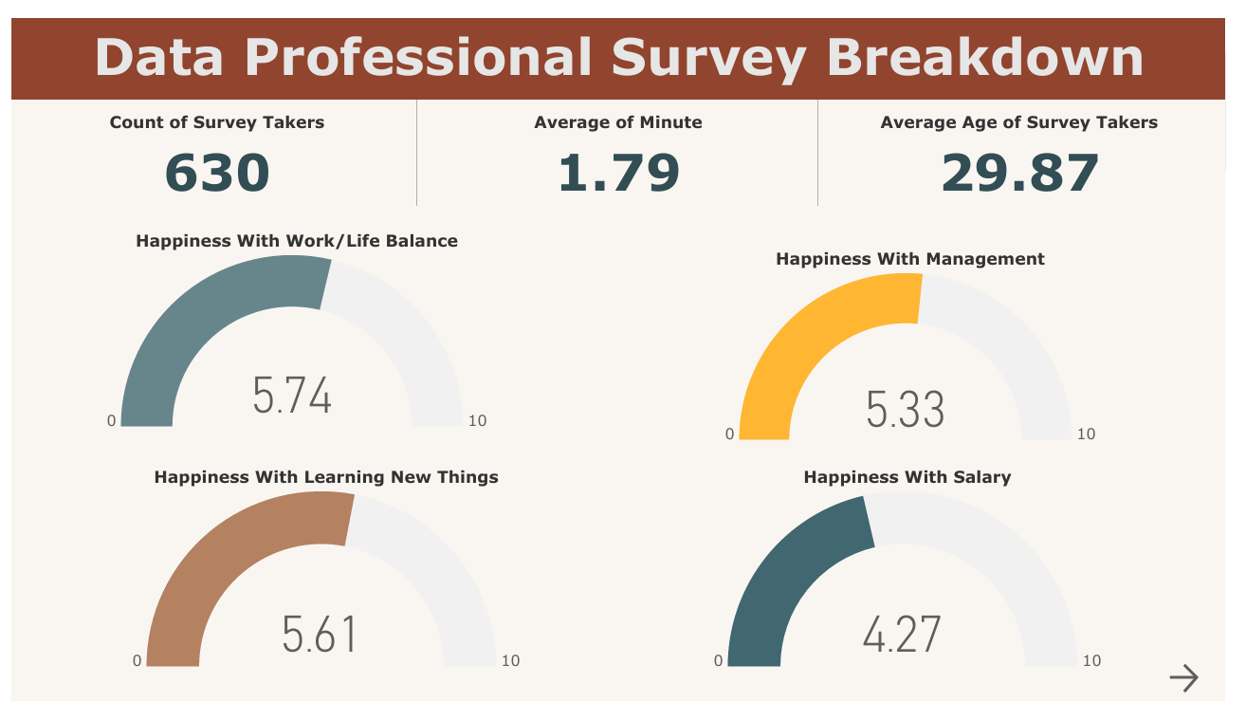

This screenshot's page, from the dashboard's own definition file:
{"tool":"powerbi","page":{"name":"Card","canvas":[1280,720],"ordinal":0},"visuals":[{"type":"textbox","box":[0,0,1280,86],"z":0},{"type":"gauge","title":"Happiness With Salary","fields":{"Y":["Avg(Data Professional Survey.Q6 - How Happy are you in your Current Position with the following? (Salary))"],"MinValue":["Min(Data Professional Survey.Q6 - How Happy are you in your Current Position with the following? (Salary))1"],"MaxValue":["Max(Data Professional Survey.Q6 - How Happy are you in your Current Position with the following? (Salary))2"]},"box":[644.3,471.9,600,220],"z":3000},{"type":"gauge","title":"Happiness With Work/Life Balance","fields":{"Y":["Avg(Data Professional Survey.Q6 - How Happy are you in your Current Position with the following? (Work/Life Balance))"],"MinValue":["Min(Data Professional Survey.Q6 - How Happy are you in your Current Position with the following? (Work/Life Balance))"],"MaxValue":["Max(Data Professional Survey.Q6 - How Happy are you in your Current Position with the following? (Work/Life Balance))"]},"box":[0,222.8,600.3,216],"z":4000},{"type":"gauge","title":"Happiness With Learning New Things","fields":{"Y":["Avg(Data Professional Survey.Q6 - How Happy are you in your Current Position with the following? (Learning New Things))"],"MinValue":["Min(Data Professional Survey.Q6 - How Happy are you in your Current Position with the following? (Learning New Things))"],"MaxValue":["Max(Data Professional Survey.Q6 - How Happy are you in your Current Position with the following? (Learning New Things))"]},"box":[31.4,471.9,600,220],"z":5000},{"type":"gauge","title":"Happiness With Management","fields":{"Y":["Avg(Data Professional Survey.Q6 - How Happy are you in your Current Position with the following? (Management))"],"MinValue":["Min(Data Professional Survey.Q6 - How Happy are you in your Current Position with the following? (Management))"],"MaxValue":["Max(Data Professional Survey.Q6 - How Happy are you in your Current Position with the following? (Management))1"]},"box":[647.1,241.9,600,211.4],"z":6000},{"type":"actionButton","box":[1215,675,65,40],"z":8000},{"type":"cardVisual","fields":{"Data":["CountNonNull(Data Professional Survey.Unique ID)","Avg(Data Professional Survey.Minute)","Avg(Data Professional Survey.Q10 - Current Age)"]},"box":[0,81.3,1280,122],"z":9000}]}

Visuals, with their boxes in screenshot pixels (x1, y1, x2, y2), scaled from the page's 1280x720 canvas onto the 1246x720 screenshot:
textbox: 0,0,1245,86
"Happiness With Salary" gauge: 627,472,1211,692
"Happiness With Work/Life Balance" gauge: 0,223,584,439
"Happiness With Learning New Things" gauge: 31,472,615,692
"Happiness With Management" gauge: 630,242,1214,453
actionButton: 1183,675,1245,715
cardVisual - CountNonNull(Data Professional Survey.Unique ID) x Avg(Data Professional Survey.Minute): 0,81,1245,203
